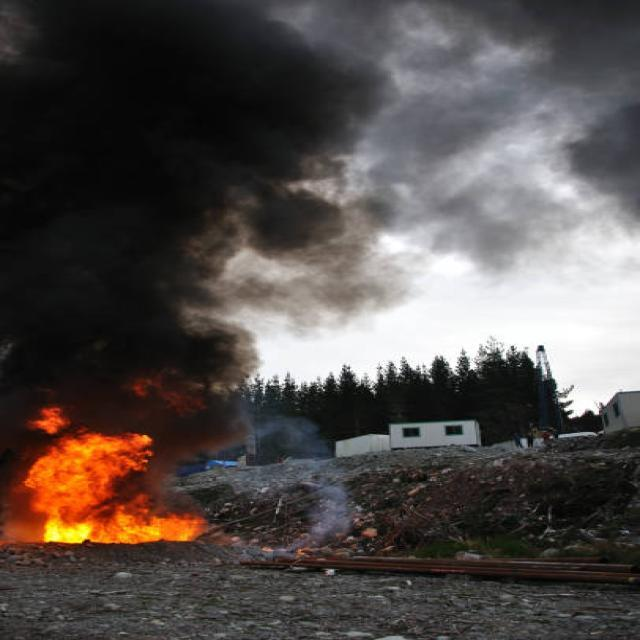Fire: (22, 388, 192, 554)
Smoke: (0, 3, 295, 532), (200, 0, 639, 285)
